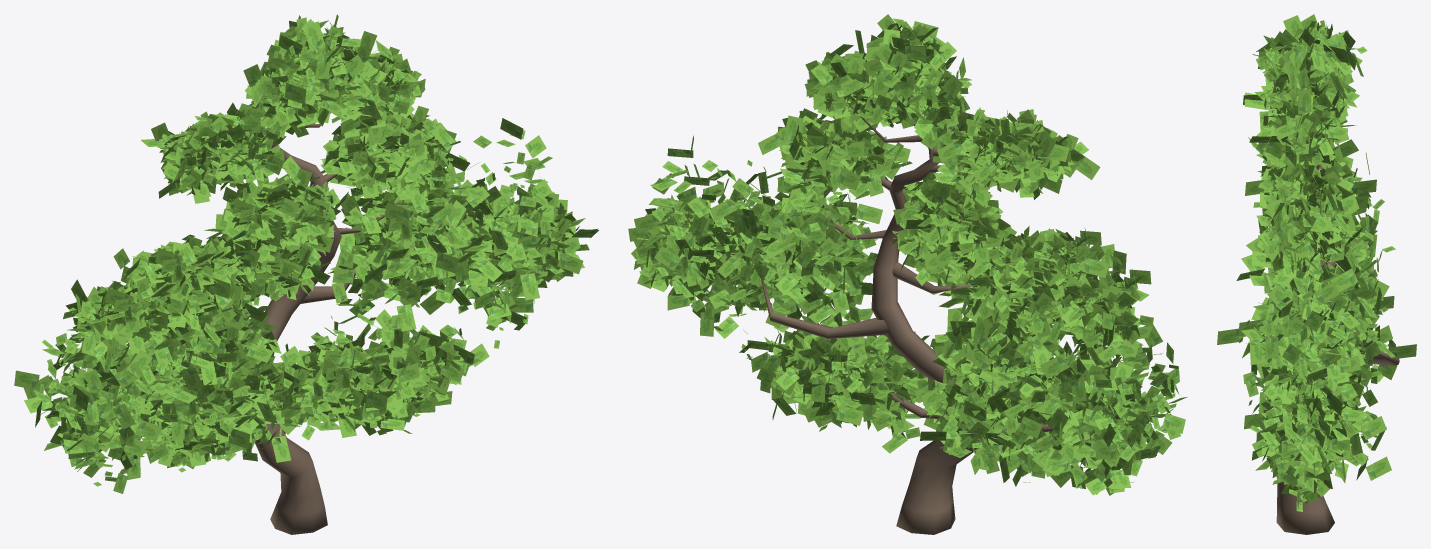
File: bonsai_tree_payment_001_meshopt.glb
3 views of the same model, side by side, from view 1: azimuth 30°, elevation 25°; view 2: azimuth 150°, elevation 25°; view 3: azimuth 270°, elevation 25° (orthographic). The views are drawn at different scales.
Parts seen in each view (by area): view 1: lobe_08, lobe_02, lobe_06, lobe_00, lobe_01, lobe_04, lobe_07, lobe_03, lobe_09, lobe_05, Bark; view 2: lobe_08, lobe_02, lobe_06, lobe_00, Bark, lobe_04, lobe_07, lobe_01, lobe_03, lobe_09, lobe_05; view 3: lobe_08, lobe_06, lobe_09, lobe_00, lobe_01, Bark, lobe_02, lobe_03, lobe_05, lobe_04, lobe_07.
Part boxes in pixels (left/top/right/bottom): lobe_08: left=328, top=118, right=598, bottom=348; lobe_02: left=14, top=301, right=284, bottom=493; lobe_06: left=243, top=14, right=425, bottom=144; lobe_00: left=293, top=309, right=489, bottom=437; lobe_01: left=138, top=340, right=342, bottom=472; lobe_04: left=63, top=271, right=267, bottom=356; lobe_07: left=141, top=86, right=294, bottom=203; lobe_03: left=113, top=233, right=330, bottom=311; lobe_09: left=320, top=106, right=470, bottom=200; lobe_05: left=204, top=156, right=340, bottom=281; Bark: left=119, top=75, right=401, bottom=534; lobe_08: left=628, top=135, right=882, bottom=347; lobe_02: left=930, top=307, right=1187, bottom=495; lobe_06: left=804, top=14, right=971, bottom=149; lobe_00: left=739, top=313, right=929, bottom=453; Bark: left=757, top=80, right=1077, bottom=534; lobe_04: left=938, top=241, right=1153, bottom=362; lobe_07: left=914, top=103, right=1100, bottom=206; lobe_01: left=914, top=346, right=1073, bottom=486; lobe_03: left=904, top=226, right=1108, bottom=337; lobe_09: left=758, top=108, right=912, bottom=201; lobe_05: left=892, top=172, right=1016, bottom=278; lobe_08: left=1238, top=226, right=1395, bottom=489; lobe_06: left=1249, top=14, right=1367, bottom=179; lobe_09: left=1252, top=164, right=1368, bottom=277; lobe_00: left=1244, top=357, right=1391, bottom=511; lobe_01: left=1217, top=254, right=1416, bottom=413; Bark: left=1276, top=164, right=1399, bottom=534; lobe_02: left=1236, top=181, right=1389, bottom=319; lobe_03: left=1245, top=142, right=1376, bottom=273; lobe_05: left=1253, top=147, right=1353, bottom=261; lobe_04: left=1248, top=137, right=1366, bottom=252; lobe_07: left=1243, top=20, right=1356, bottom=127.
Bounding box in the file's own units: 13.26 × 11.39 × 4.02.
Materials: 2 (1 with a texture image).
